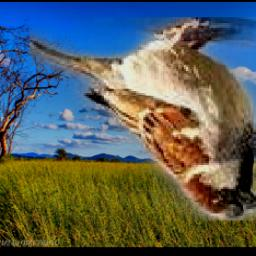Sparrow: (30, 17, 256, 221)
